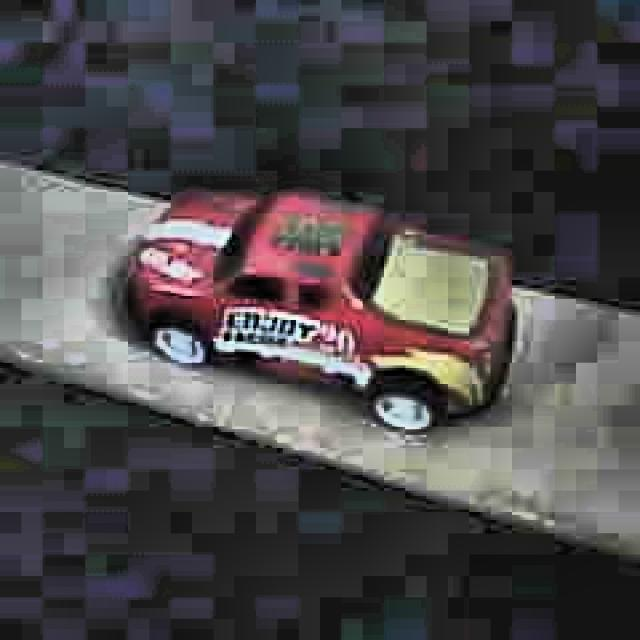car: (122, 187, 519, 435)
